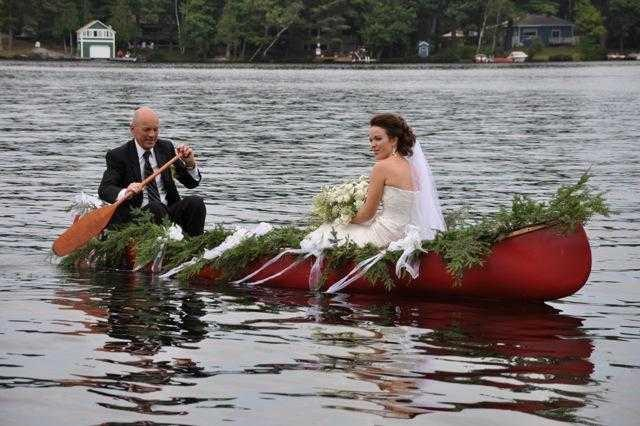kayak: (218, 216, 595, 302)
